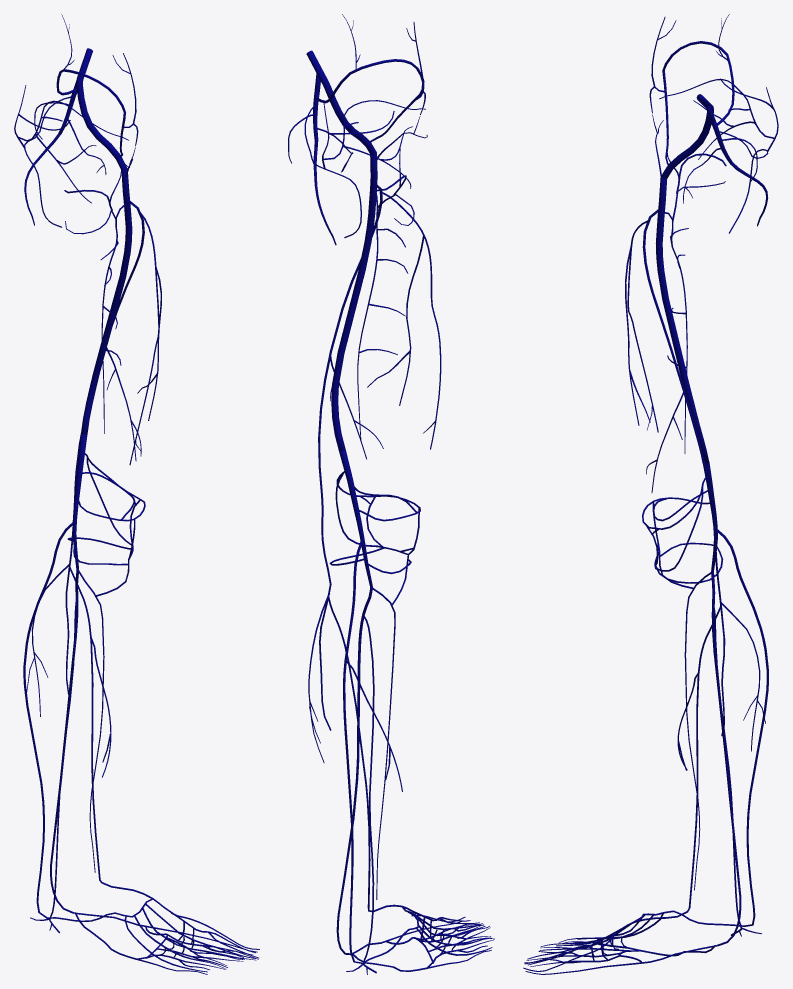
Rendered from Lower limb Veins.fbx.
The picture shows the model from 3 angles, left to right: view 1: azimuth 90°, elevation 25°; view 2: azimuth 150°, elevation 25°; view 3: azimuth 270°, elevation 25°; orthographic projection. The views are drawn at different scales.
Parts seen in each view (by area): view 1: Great_saphenous_R, Femoral_R, Small_saphenous_R, Superior_gluteal_R, Plantar_digital_R, Superficial_digital_R, Posterior_tibial_R, Fibular_R, Superficial_metatarsal_R, External_iliac_R, Popliteal_R, Anterior_tibial_R; view 2: Great_saphenous_R, Femoral_R, Small_saphenous_R, Superior_gluteal_R, Posterior_tibial_R, Fibular_R, Popliteal_R, Plantar_digital_R, External_iliac_R, Anterior_tibial_R, Superficial_metatarsal_R, Iliolumbar_R (+2 smaller); view 3: Great_saphenous_R, Femoral_R, Small_saphenous_R, Posterior_tibial_R, Superior_gluteal_R, Superficial_digital_R, Plantar_digital_R, External_iliac_R, Anterior_tibial_R, Iliolumbar_R.
Part boxes in pixels (x1,y1,x2,y2): Great_saphenous_R: (26,200,161,880); Femoral_R: (81,169,132,434); Small_saphenous_R: (23,522,73,918); Superior_gluteal_R: (14,85,128,227); Plantar_digital_R: (136,926,258,974); Superficial_digital_R: (171,913,259,972); Posterior_tibial_R: (50,569,78,913); Fibular_R: (49,595,77,933); Superficial_metatarsal_R: (124,898,208,964); External_iliac_R: (76,79,127,170); Popliteal_R: (72,434,87,569); Anterior_tibial_R: (78,570,104,872); Great_saphenous_R: (308,185,441,909); Femoral_R: (331,154,377,451); Small_saphenous_R: (343,540,363,964); Superior_gluteal_R: (304,100,425,237); Posterior_tibial_R: (336,586,372,955); Fibular_R: (363,616,376,974); Popliteal_R: (339,449,372,586); Plantar_digital_R: (389,921,493,968); External_iliac_R: (322,81,376,155); Anterior_tibial_R: (373,588,395,899); Superficial_metatarsal_R: (403,906,467,955); Iliolumbar_R: (315,14,424,103); Great_saphenous_R: (625,209,765,908); Femoral_R: (655,177,709,464); Small_saphenous_R: (717,529,768,926); Posterior_tibial_R: (711,571,741,946); Superior_gluteal_R: (659,78,778,233); Superficial_digital_R: (523,933,615,971); Plantar_digital_R: (525,941,642,974); External_iliac_R: (661,108,713,178); Anterior_tibial_R: (684,572,712,890); Iliolumbar_R: (662,14,734,125).
Size of the model in its own units: 15.73 by 120 by 28.62.
